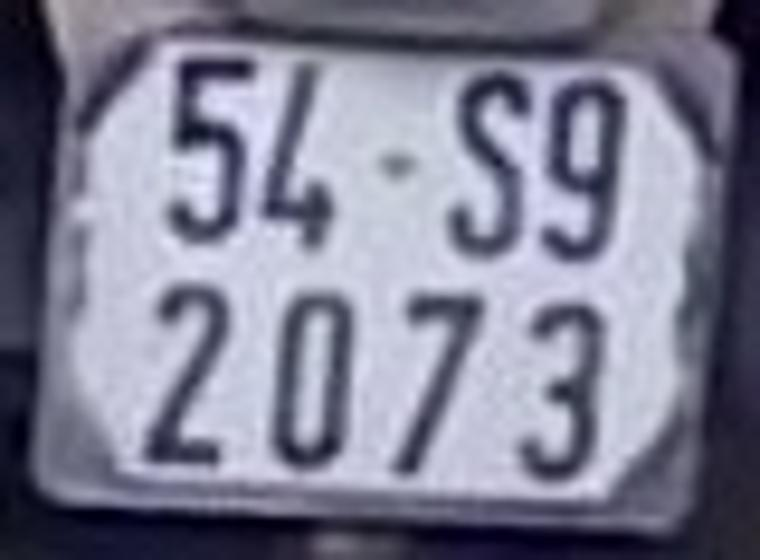-: (379, 151, 423, 183)
0: (268, 282, 356, 478)
2: (140, 284, 229, 467)
3: (514, 298, 606, 488)
4: (257, 62, 341, 250)
5: (162, 55, 252, 249)
7: (386, 289, 491, 480)
9: (538, 66, 630, 265)
S: (445, 68, 533, 260)
